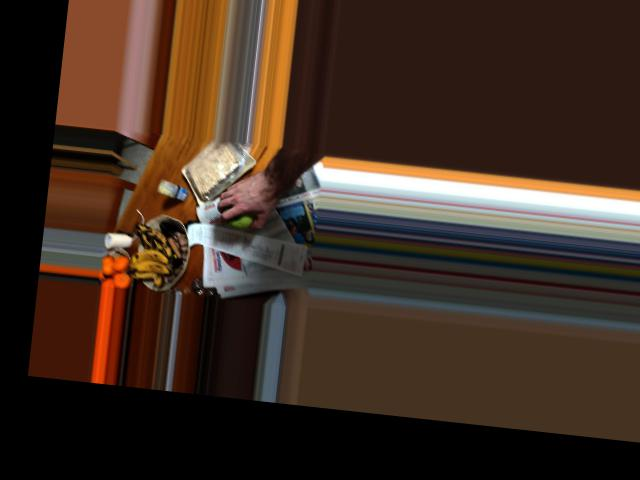apple: (220, 190, 263, 230)
